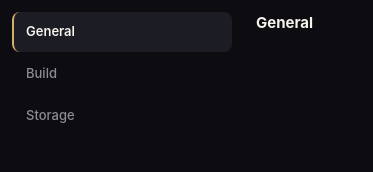
ConfigLayout › does not eagerly mount an unvisited panel
Click the button "Storage": [122, 116] box x1=12 y1=96 x2=232 y2=136
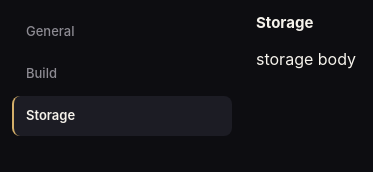
Result: the element with id "cfg-panel-storage" is shown at x1=256 y1=13 x2=356 y2=68
